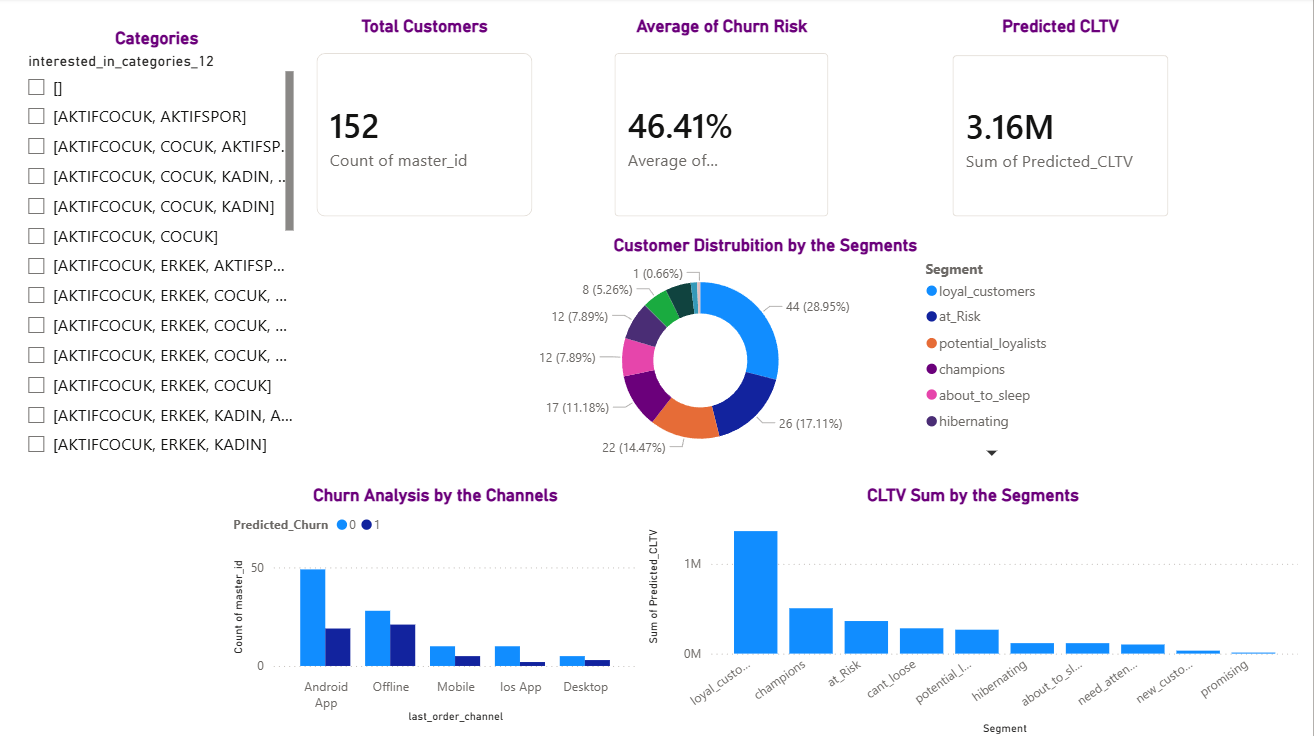

The dashboard page shown, as its layout file describes it:
{"tool":"powerbi","page":{"name":"Page 1","canvas":[1280,720],"ordinal":0},"visuals":[{"type":"cardVisual","title":"Total Customers","fields":{"Data":["CountNonNull(FLO_PowerBI_Dataset.master_id)"]},"box":[293.7,17.8,244.3,212.7],"z":0},{"type":"cardVisual","title":"Average of Churn Risk","fields":{"Data":["Avg(FLO_PowerBI_Dataset.Churn_Probability)"]},"box":[583.2,17.8,242.9,212.7],"z":1000},{"type":"cardVisual","title":"Predicted CLTV","fields":{"Data":["Sum(FLO_PowerBI_Dataset.Predicted_CLTV)"]},"box":[912.5,17.8,244.3,212.7],"z":2000},{"type":"donutChart","title":"Customer Distrubition by the Segments","fields":{"Category":["FLO_PowerBI_Dataset.Segment"],"Y":["CountNonNull(FLO_PowerBI_Dataset.master_id)"]},"box":[459.7,230.5,575,225],"z":3000},{"type":"clusteredColumnChart","title":"Churn Analysis by the Channels","fields":{"Category":["FLO_PowerBI_Dataset.last_order_channel"],"Y":["CountNonNull(FLO_PowerBI_Dataset.master_id)"],"Series":["FLO_PowerBI_Dataset.Predicted_Churn"]},"box":[225,473.4,403.4,236],"z":3001},{"type":"clusteredColumnChart","title":"CLTV Sum by the Segments","fields":{"Category":["FLO_PowerBI_Dataset.Segment"],"Y":["Sum(FLO_PowerBI_Dataset.Predicted_CLTV)"]},"box":[628.5,473.4,642.2,247],"z":3002},{"type":"slicer","title":"Categories","fields":{"Values":["FLO_PowerBI_Dataset.interested_in_categories_12"]},"box":[17.8,28.8,275.8,426.8],"z":3003}]}

Visuals, with their boxes in screenshot pixels (x1, y1, x2, y2), scaled from the page's 1280x720 canvas onto the 1314x736 screenshot:
"Total Customers" cardVisual: (302,18,552,236)
"Average of Churn Risk" cardVisual: (599,18,848,236)
"Predicted CLTV" cardVisual: (937,18,1188,236)
"Customer Distrubition by the Segments" donutChart: (472,236,1062,466)
"Churn Analysis by the Channels" clusteredColumnChart: (231,484,645,725)
"CLTV Sum by the Segments" clusteredColumnChart: (645,484,1304,735)
"Categories" slicer: (18,29,301,466)
